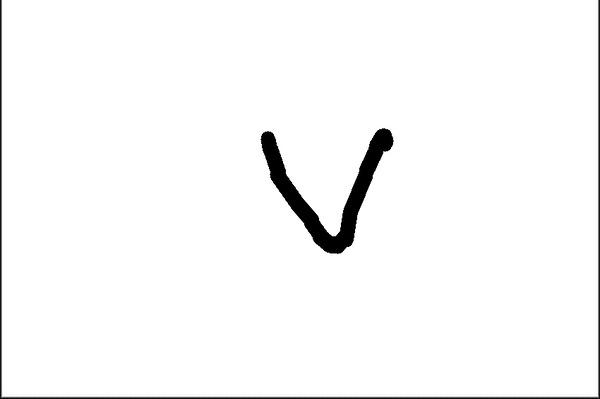V: (244, 111, 402, 262)
